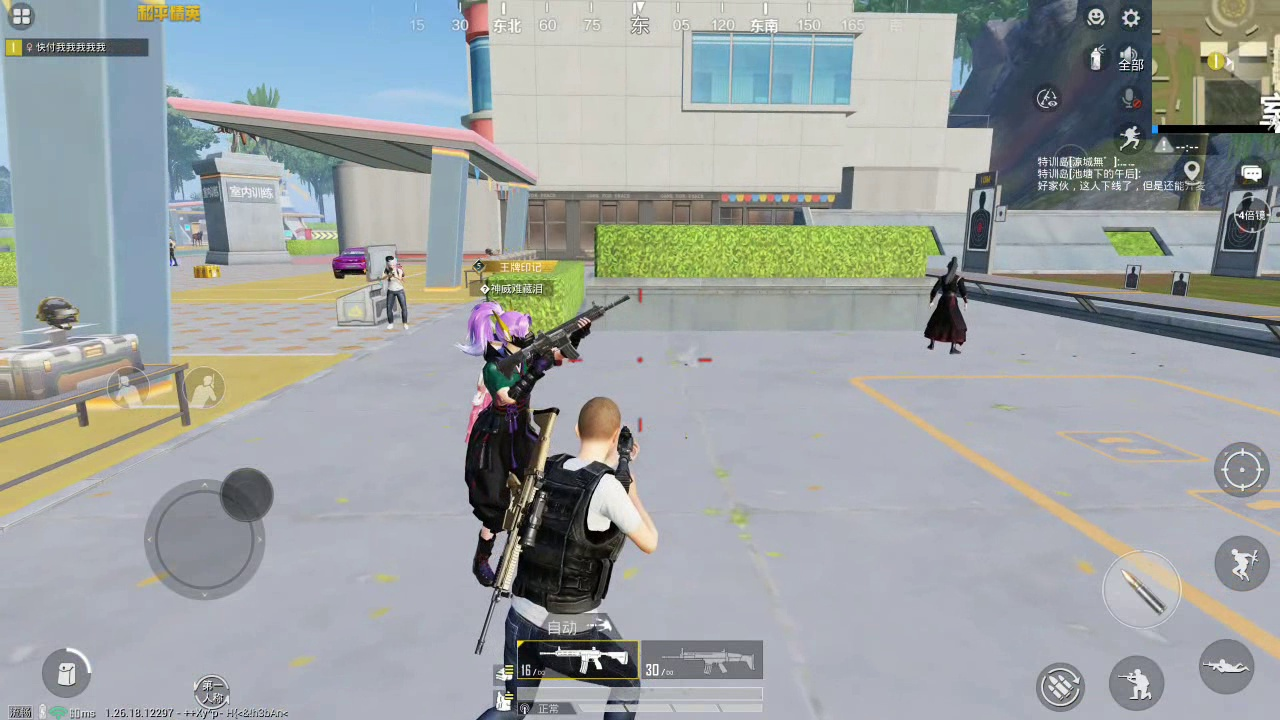enemy: (463, 298, 543, 475), (924, 258, 971, 359), (378, 253, 411, 334)
